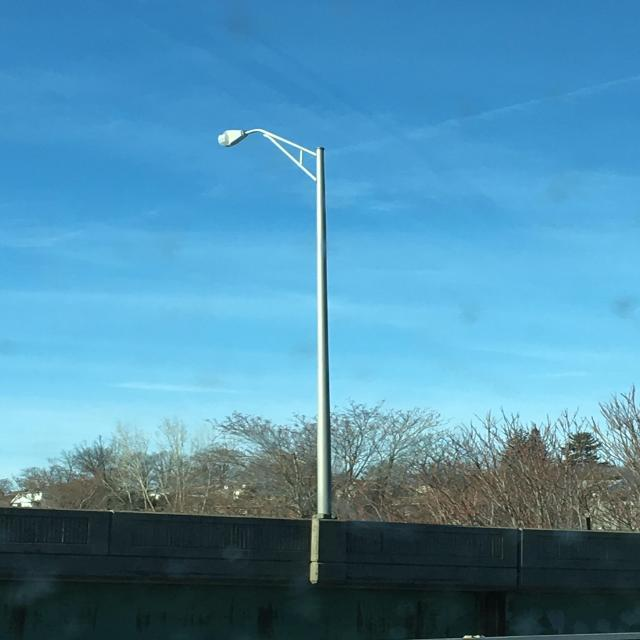Street Light: (215, 127, 333, 516)
